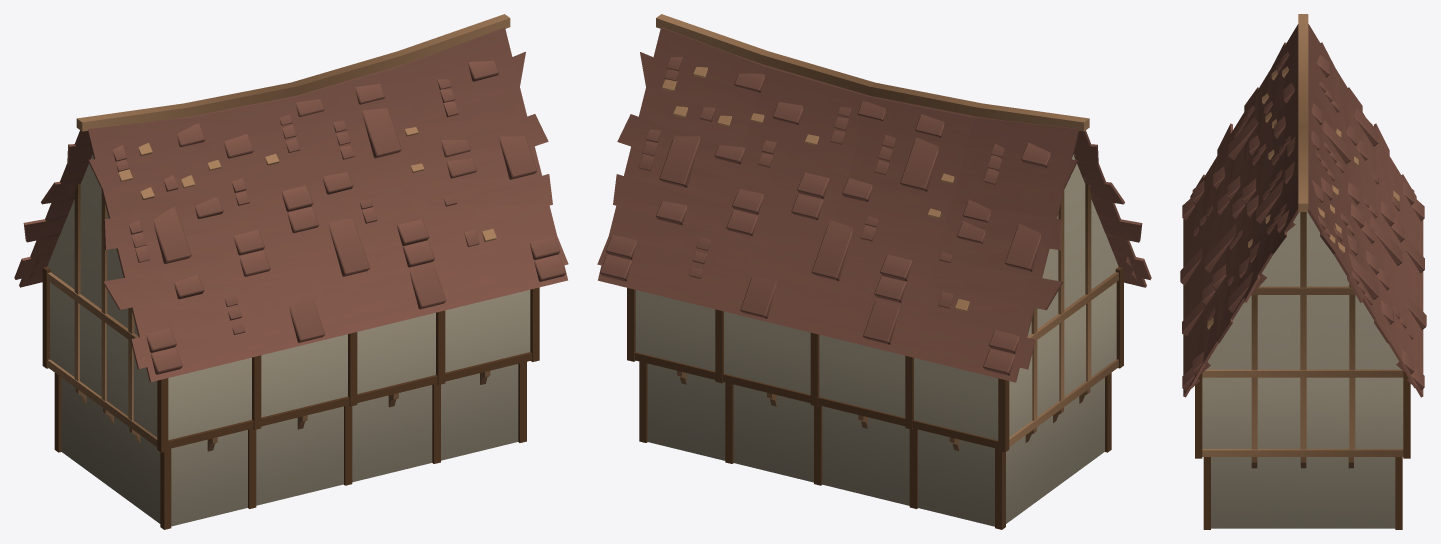
File: ZLP_Build_B_8.FBX
3 renders of one model, left to right at view 1: azimuth 30°, elevation 25°; view 2: azimuth 150°, elevation 25°; view 3: azimuth 270°, elevation 25°, orthographic. The views are drawn at different scales.
Parts seen in each view (by area): view 1: ZLP_Build_B_8; view 2: ZLP_Build_B_8; view 3: ZLP_Build_B_8.
Boxes of the visible parts, x1=… form: ZLP_Build_B_8: x1=14, y1=14, x2=568, y2=529; ZLP_Build_B_8: x1=597, y1=14, x2=1151, y2=529; ZLP_Build_B_8: x1=1180, y1=14, x2=1426, y2=529.
Size of the model in its own units: 1225 by 974 by 635.
